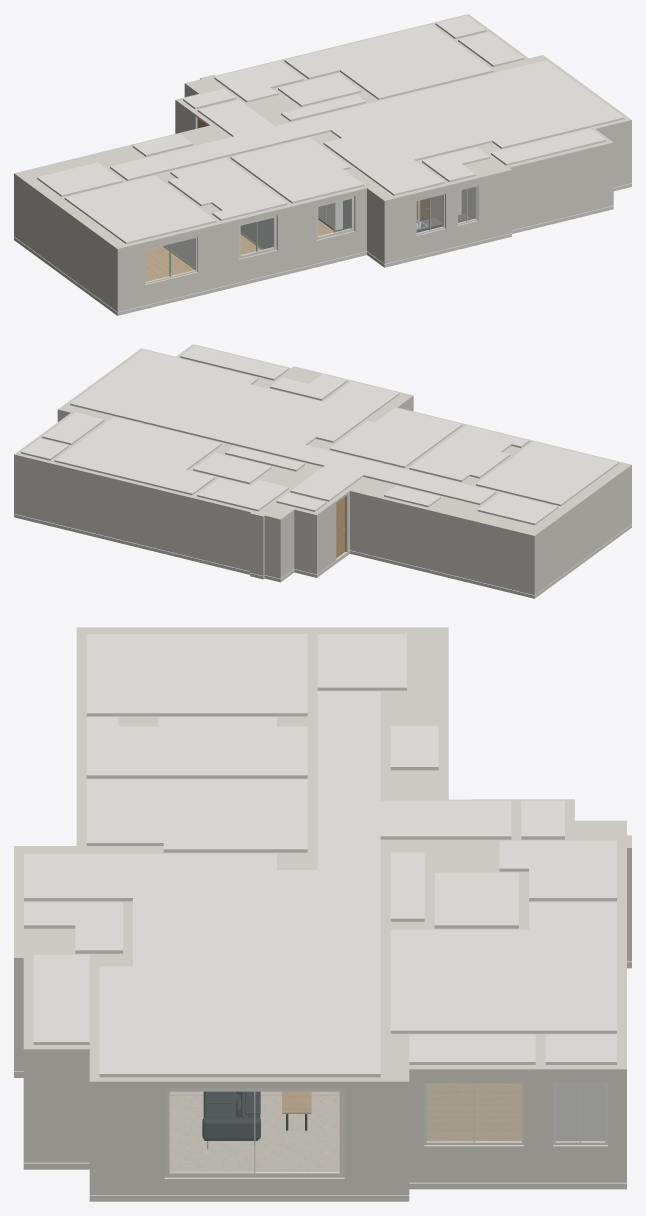
File: acro168c-expanded.glb
3 renders of one model, top to bottom at view 1: azimuth 30°, elevation 25°; view 2: azimuth 150°, elevation 25°; view 3: azimuth 270°, elevation 25°, orthographic. The views are drawn at different scales.
Visible parts, largest first — view 1: Ceiling/04, Wall/layer-07/00, Ceiling/09, Wall/layer-01/00, Wall/layer-00/00, Ceiling/05, Wall/layer-03/05, Ceiling/07, Wall/layer-03/00, Ceiling/06, Base/00, Wall/layer-03/03 (+29 smaller); view 2: Ceiling/04, Wall/layer-03/08, Wall/layer-07/00, Wall/layer-03/00, Ceiling/09, Wall/layer-00/00, Ceiling/05, Ceiling/07, Wall/layer-01/01, Ceiling/06, Wall/layer-01/00, Base/00 (+20 smaller); view 3: Ceiling/04, Wall/layer-07/00, Ceiling/09, Ceiling/05, Ceiling/07, Ceiling/06, Wall/layer-00/00, Floor/living-kitchen-hall, Wall/layer-03/05, Wall/layer-01/01, living-main-window/glass-1, living-main-window/glass-0 (+32 smaller).
Part boxes in pixels (bbox=[...]): Ceiling/04: bbox=[110, 60, 624, 195]; Wall/layer-07/00: bbox=[14, 14, 631, 250]; Ceiling/09: bbox=[284, 24, 493, 99]; Wall/layer-01/00: bbox=[14, 163, 631, 303]; Wall/layer-00/00: bbox=[14, 174, 631, 311]; Ceiling/05: bbox=[64, 175, 216, 244]; Wall/layer-03/05: bbox=[416, 127, 631, 218]; Ceiling/07: bbox=[230, 137, 364, 203]; Wall/layer-03/00: bbox=[14, 181, 145, 289]; Ceiling/06: bbox=[168, 158, 287, 220]; Base/00: bbox=[14, 183, 631, 315]; Wall/layer-03/03: bbox=[343, 196, 416, 241]; Ceiling/04: bbox=[70, 349, 496, 504]; Wall/layer-03/08: bbox=[14, 461, 336, 557]; Wall/layer-07/00: bbox=[14, 344, 631, 537]; Wall/layer-03/00: bbox=[346, 472, 631, 573]; Ceiling/09: bbox=[54, 417, 221, 495]; Wall/layer-00/00: bbox=[14, 505, 631, 595]; Ceiling/05: bbox=[476, 441, 618, 506]; Ceiling/07: bbox=[330, 408, 462, 467]; Wall/layer-01/01: bbox=[14, 495, 336, 570]; Ceiling/06: bbox=[409, 425, 529, 481]; Wall/layer-01/00: bbox=[346, 505, 631, 586]; Base/00: bbox=[14, 514, 631, 598]; Ceiling/04: bbox=[24, 691, 511, 1077]; Wall/layer-07/00: bbox=[14, 627, 631, 1085]; Ceiling/09: bbox=[390, 902, 616, 1033]; Ceiling/05: bbox=[86, 634, 307, 716]; Ceiling/07: bbox=[86, 779, 307, 852]; Ceiling/06: bbox=[86, 717, 307, 778]; Wall/layer-00/00: bbox=[14, 945, 631, 1194]; Floor/living-kitchen-hall: bbox=[169, 1091, 339, 1171]; Wall/layer-03/05: bbox=[14, 971, 164, 1153]; Wall/layer-01/01: bbox=[344, 925, 631, 1178]; living-main-window/glass-1: bbox=[170, 1092, 253, 1172]; living-main-window/glass-0: bbox=[255, 1092, 339, 1171].
Size of the model in its own units: 21.48 by 2.72 by 12.35.
Materials: 26 (9 with a texture image).
